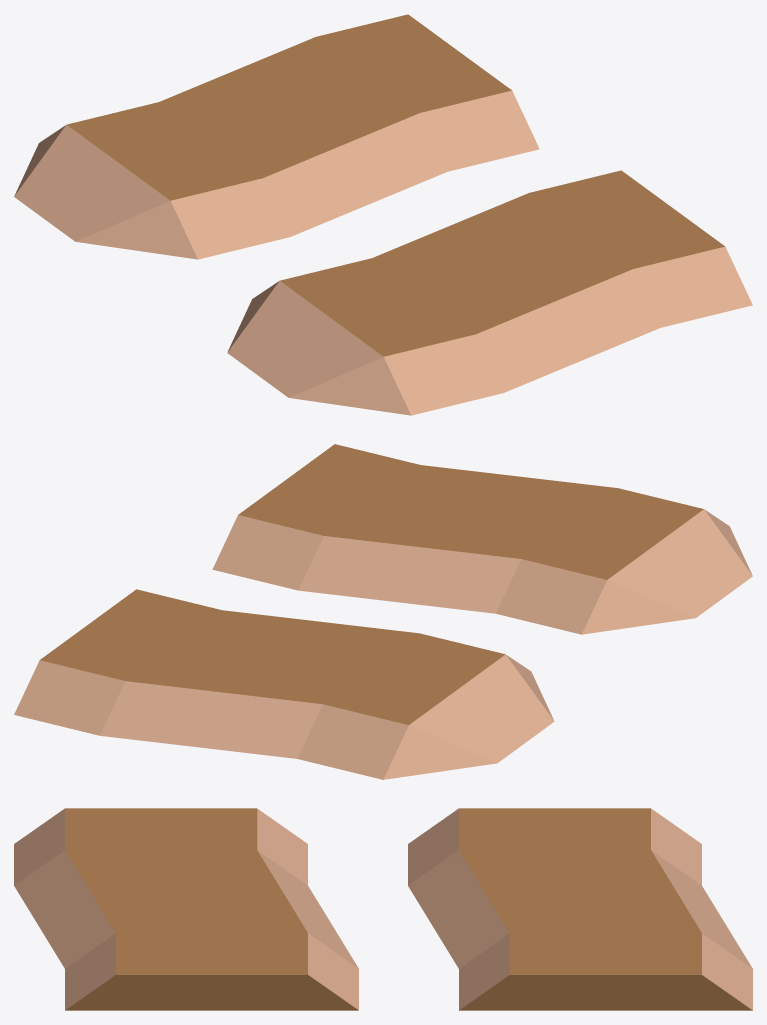
The model's file is crops_dirtDoubleRowEnd.glb.
3 renders of one model, top to bottom at view 1: azimuth 30°, elevation 25°; view 2: azimuth 150°, elevation 25°; view 3: azimuth 270°, elevation 25°, orthographic. The views are drawn at different scales.
Visible parts, largest first — view 1: crops_dirtDoubleRowEnd; view 2: crops_dirtDoubleRowEnd; view 3: crops_dirtDoubleRowEnd.
Boxes of the visible parts, x1=… form: crops_dirtDoubleRowEnd: x1=14, y1=14, x2=752, y2=415; crops_dirtDoubleRowEnd: x1=14, y1=444, x2=752, y2=779; crops_dirtDoubleRowEnd: x1=14, y1=808, x2=752, y2=1010.
Size of the model in its own units: 0.6 by 0.05 by 0.938.
